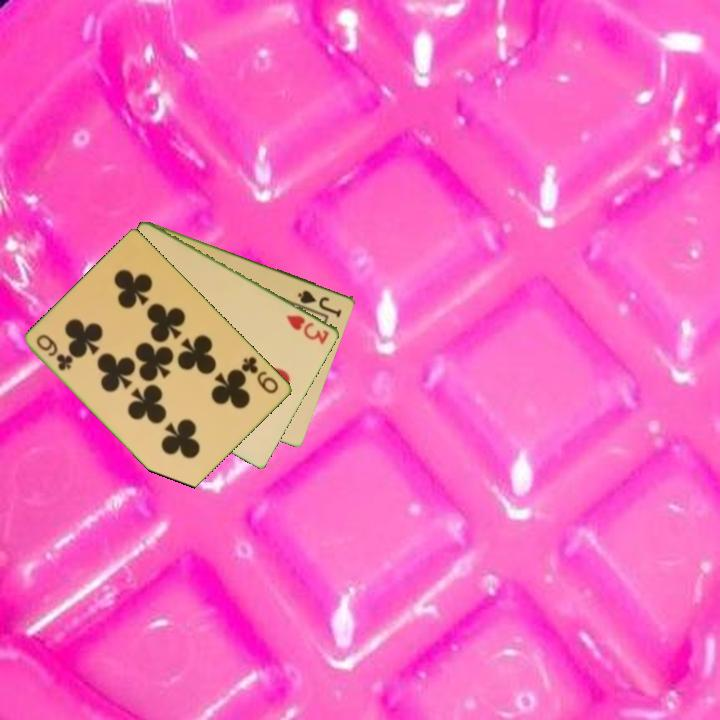3h: (283, 311, 332, 347)
9c: (238, 353, 282, 397), (33, 330, 76, 374)
Js: (294, 286, 345, 319)
